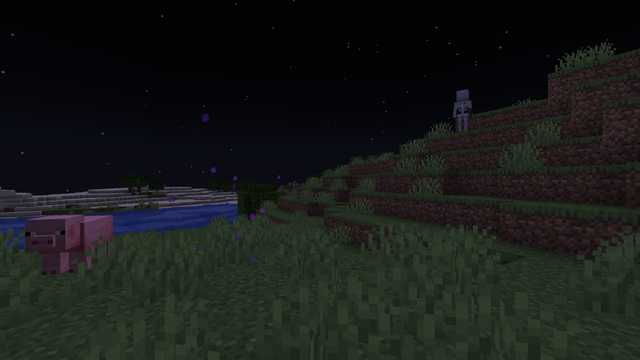cochons: (35, 213, 114, 276)
squelettes: (453, 88, 471, 132)
